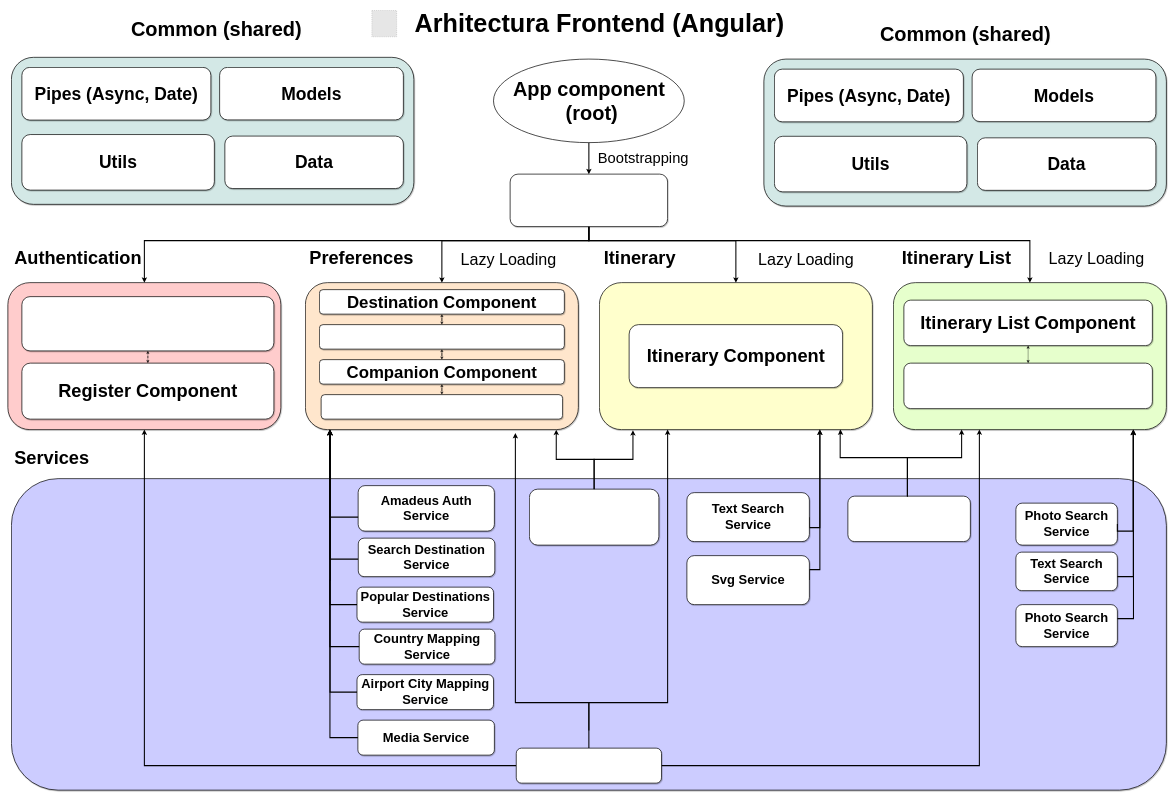
Some shapes in this 1175 by 799 pixel diagram are drawn without their labels. Grey dashed boxes stand in for pictures. The centre of each missing label's shape, as x and y in pixels:
"App Navbar" goes at (x=589, y=200).
"Auth Service" goes at (x=589, y=766).
"Interests Component" goes at (x=442, y=407).
"Itinerary Service" goes at (x=909, y=519).
"Itinerary View Component" goes at (x=1028, y=386).
"Login Component" goes at (x=148, y=324).
"Period Component" goes at (x=442, y=337).
"Preferences Service" goes at (x=594, y=517).
